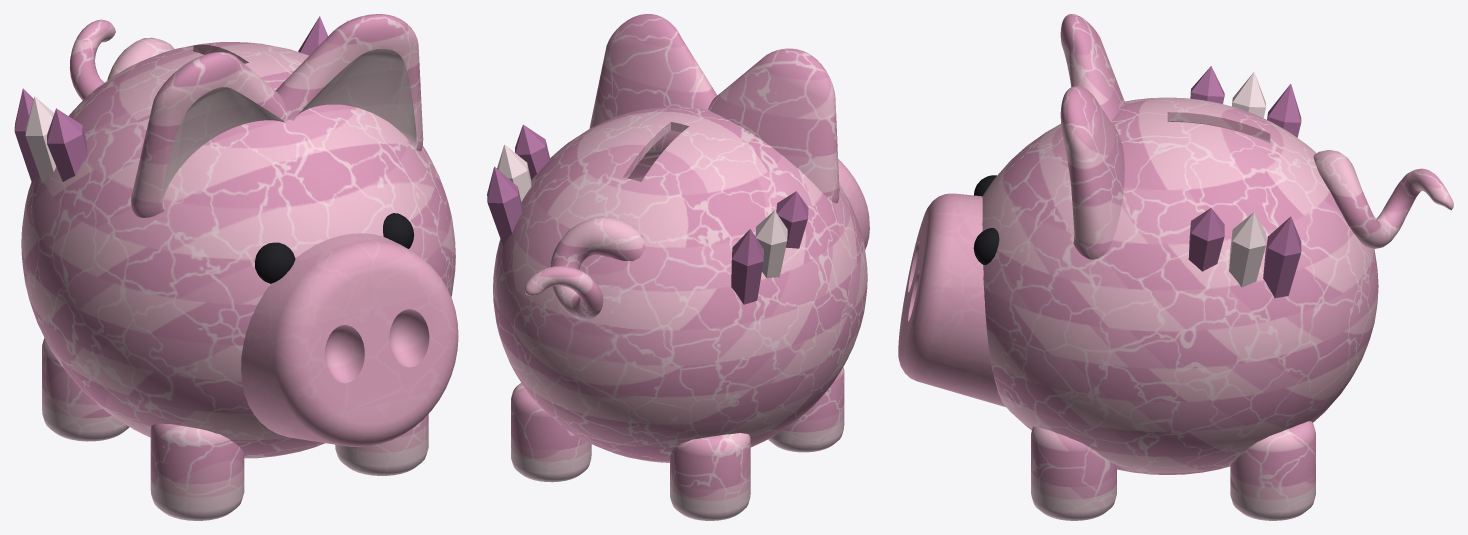
The model's file is quartz-og-v1-complete.fbx.
3 renders of one model, left to right at view 1: azimuth 30°, elevation 25°; view 2: azimuth 150°, elevation 25°; view 3: azimuth 270°, elevation 25°, orthographic. The views are drawn at different scales.
Visible parts, largest first — view 1: Body, Snout, Ears, Legs, Tail, EyePreview, QuartzPoint_-1_0, QuartzPoint_-1_1, QuartzPoint_-1_2, QuartzPoint_1_2; view 2: Body, Ears, Legs, Tail, QuartzPoint_-1_2, QuartzPoint_1_2, QuartzPoint_-1_1, QuartzPoint_-1_0, QuartzPoint_1_0, Snout, QuartzPoint_1_1; view 3: Body, Snout, Legs, Ears, Tail, QuartzPoint_1_2, QuartzPoint_1_1, QuartzPoint_1_0, QuartzPoint_-1_2, EyePreview, QuartzPoint_-1_1, QuartzPoint_-1_0.
Part boxes in pixels (x1=…): Body: x1=21, y1=42, x2=455, y2=458; Snout: x1=241, y1=233, x2=458, y2=446; Ears: x1=131, y1=14, x2=423, y2=217; Legs: x1=42, y1=338, x2=428, y2=520; Tail: x1=69, y1=19, x2=174, y2=100; EyePreview: x1=255, y1=213, x2=414, y2=283; QuartzPoint_-1_0: x1=47, y1=108, x2=87, y2=181; QuartzPoint_-1_1: x1=25, y1=96, x2=56, y2=183; QuartzPoint_-1_2: x1=14, y1=88, x2=38, y2=184; QuartzPoint_1_2: x1=298, y1=16, x2=327, y2=55; Body: x1=493, y1=107, x2=867, y2=462; Ears: x1=589, y1=14, x2=839, y2=203; Legs: x1=511, y1=367, x2=844, y2=520; Tail: x1=525, y1=216, x2=645, y2=319; QuartzPoint_-1_2: x1=731, y1=229, x2=763, y2=304; QuartzPoint_1_2: x1=487, y1=166, x2=522, y2=245; QuartzPoint_-1_1: x1=755, y1=210, x2=787, y2=278; QuartzPoint_-1_0: x1=776, y1=191, x2=808, y2=248; QuartzPoint_1_0: x1=515, y1=124, x2=549, y2=179; Snout: x1=838, y1=159, x2=869, y2=249; QuartzPoint_1_1: x1=497, y1=144, x2=531, y2=201; Body: x1=982, y1=97, x2=1378, y2=474; Snout: x1=898, y1=193, x2=1005, y2=406; Legs: x1=1031, y1=421, x2=1315, y2=520; Ears: x1=1060, y1=14, x2=1124, y2=259; Tail: x1=1313, y1=150, x2=1453, y2=248; QuartzPoint_1_2: x1=1263, y1=216, x2=1301, y2=298; QuartzPoint_1_1: x1=1229, y1=212, x2=1265, y2=287; QuartzPoint_1_0: x1=1188, y1=208, x2=1224, y2=271; QuartzPoint_-1_2: x1=1267, y1=84, x2=1301, y2=137; EyePreview: x1=973, y1=175, x2=999, y2=264; QuartzPoint_-1_1: x1=1232, y1=72, x2=1265, y2=118; QuartzPoint_-1_0: x1=1190, y1=66, x2=1224, y2=103.
Size of the model in its own units: 1200 by 1397 by 1708.
Materials: 9 (2 with a texture image).
